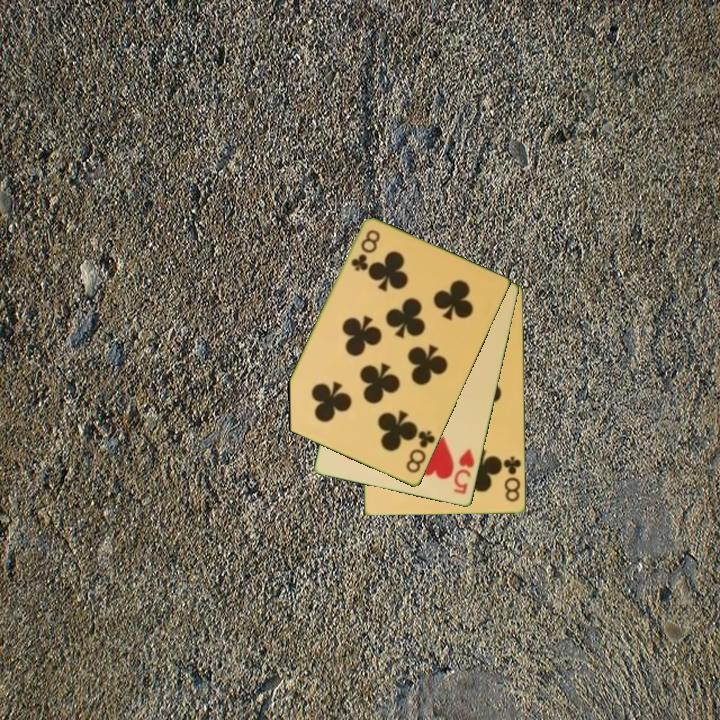5h: (450, 445, 477, 497)
8c: (402, 427, 438, 477), (348, 226, 383, 275), (499, 453, 524, 505)
